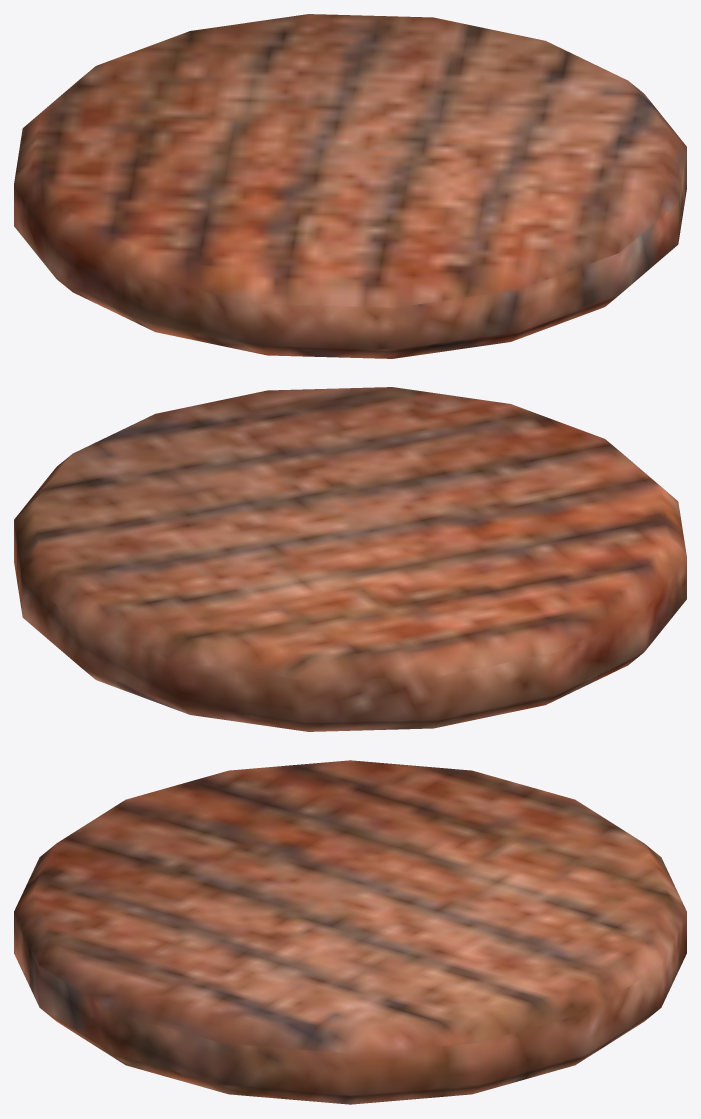
The model's file is fried_cutlet.fbx.
3 renders of one model, top to bottom at view 1: azimuth 30°, elevation 25°; view 2: azimuth 150°, elevation 25°; view 3: azimuth 270°, elevation 25°, orthographic.
Parts seen in each view (by area): view 1: fried_cutlet; view 2: fried_cutlet; view 3: fried_cutlet.
Part boxes in pixels (left/top/right/bottom): fried_cutlet: left=14, top=14, right=686, bottom=358; fried_cutlet: left=14, top=387, right=686, bottom=731; fried_cutlet: left=14, top=760, right=686, bottom=1104.
Size of the model in its own units: 11.63 by 1.44 by 11.63.
1 material, 1 textured.
